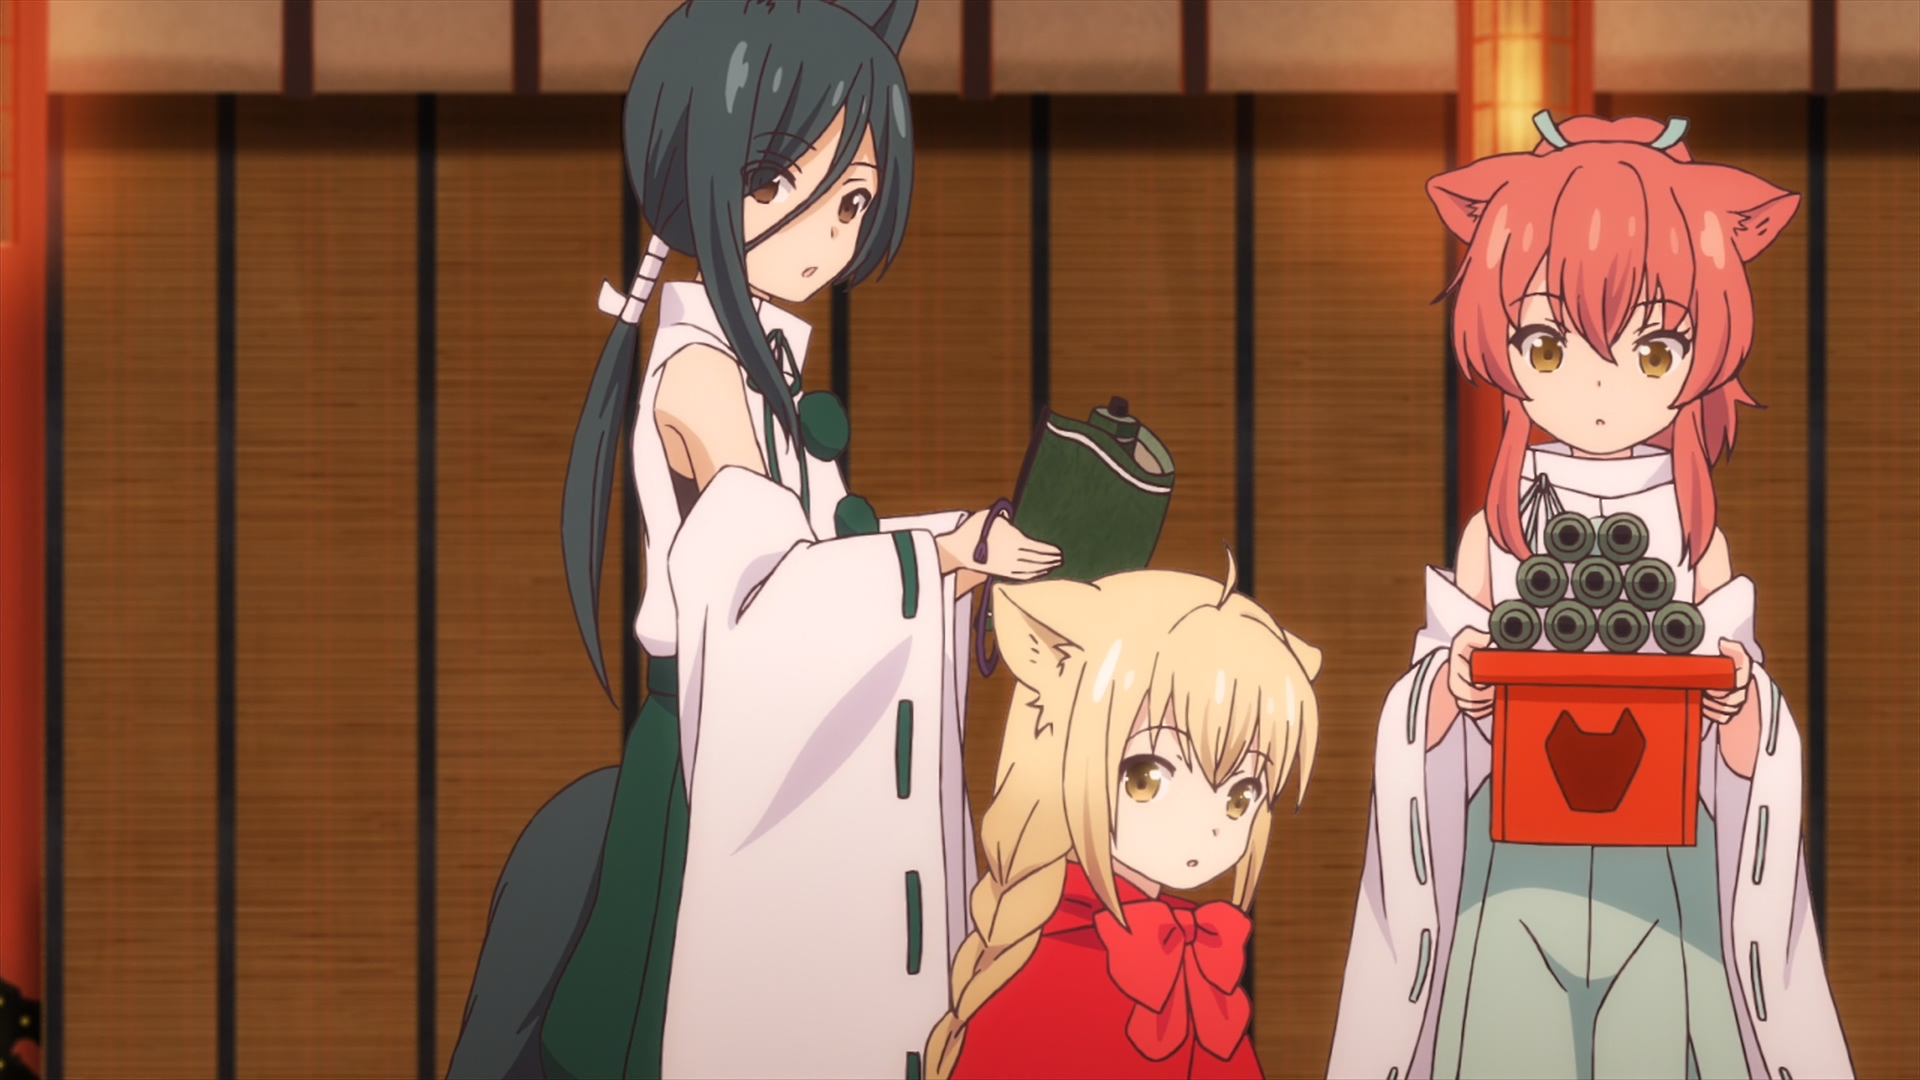其他: (444, 1, 1060, 1080)
柚: (924, 550, 1321, 1080)
椿: (1327, 109, 1854, 1080)
